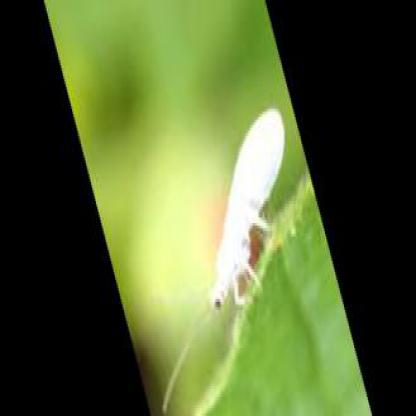whitefly: (211, 109, 284, 314)
